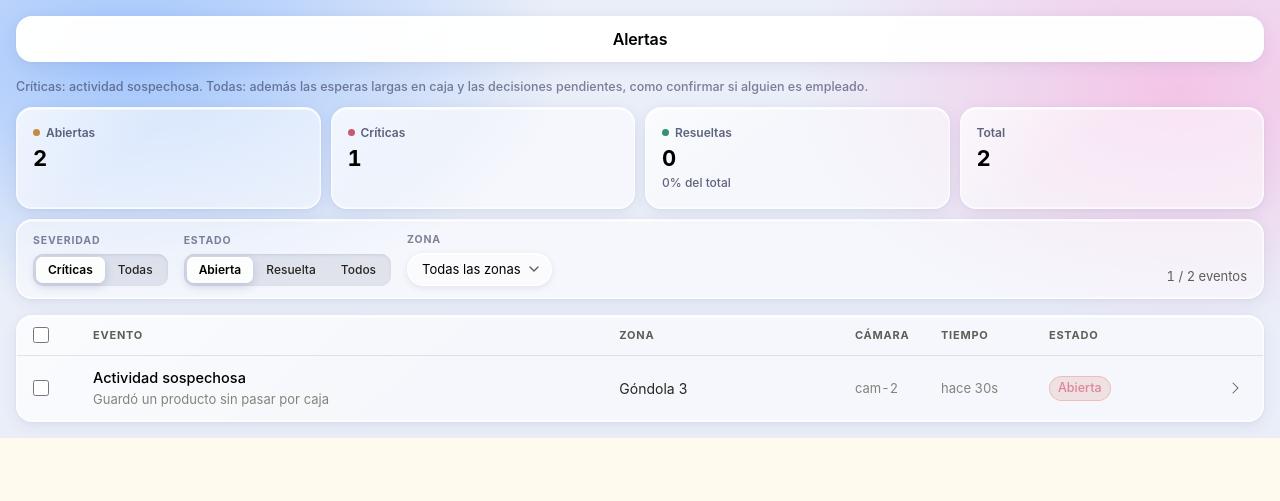
Test: detalle y resolver › espera larga en caja sin resolver: no es crítica, pero cuenta como abierta
Expected: the text "Actividad sospechosa" is shown, [93,369,246,386]
Expected: the text "Espera larga en caja" is not shown
Click the button "Todas".
click(135, 270)  # box [106,257,165,283]
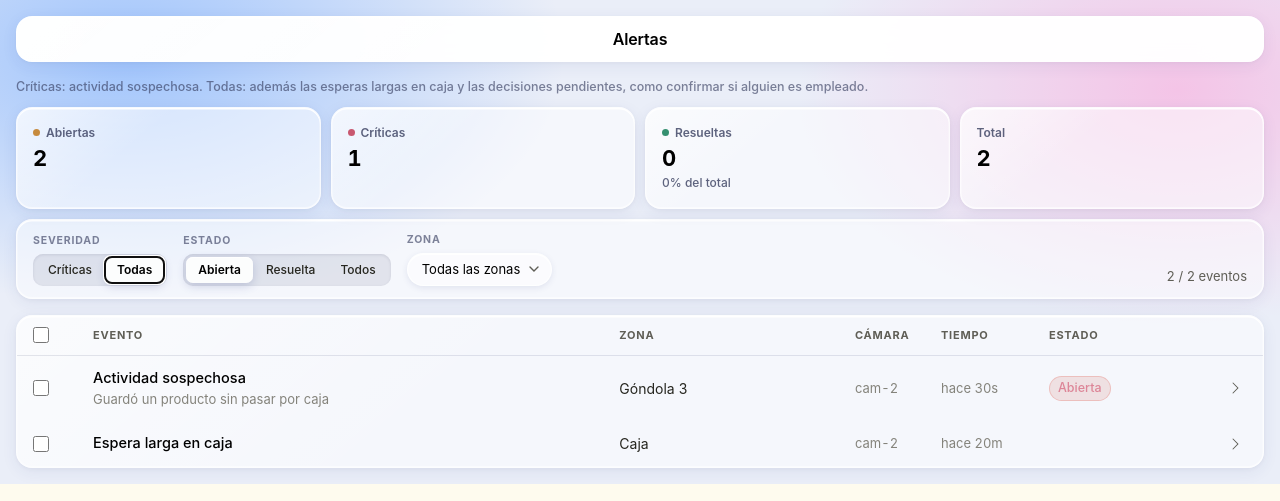
Now the text "Espera larga en caja" is shown, box [93,434,233,451]
